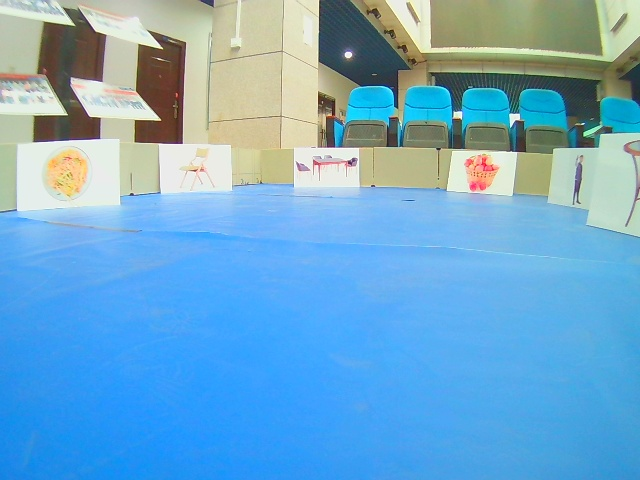food: (15, 139, 121, 210), (445, 149, 517, 196)
person: (547, 144, 604, 217)
table: (159, 144, 234, 195), (293, 146, 361, 189)
